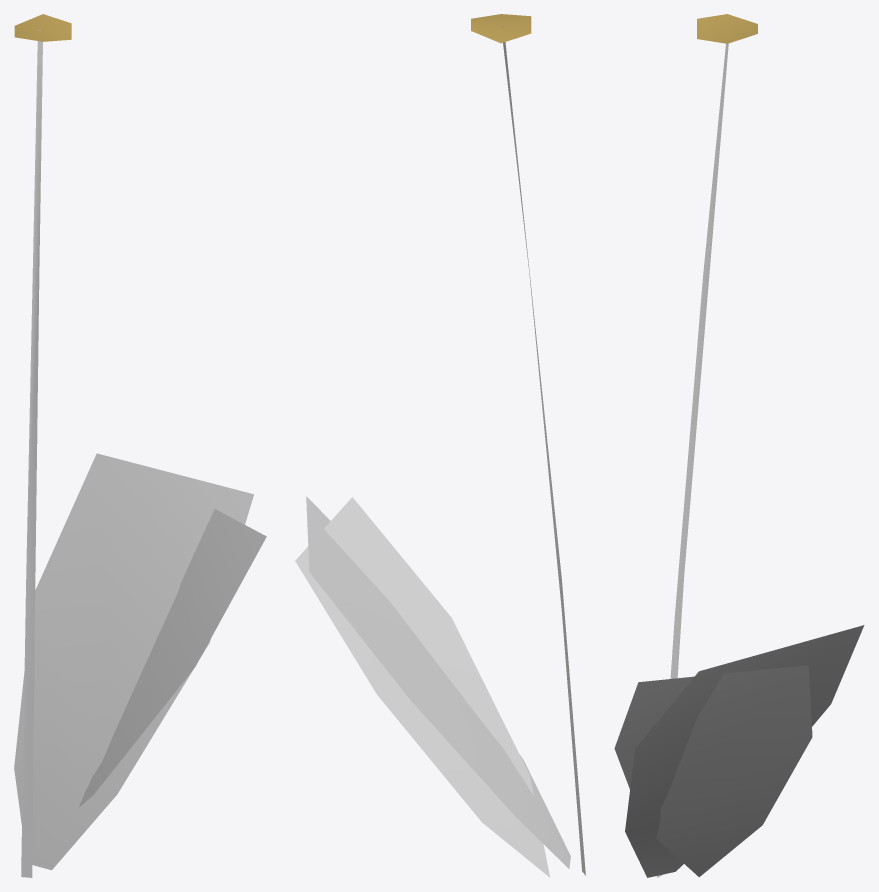
File: BroadPlantainPatch_LOD2.glb
3 views of the same model, side by side, from view 1: azimuth 30°, elevation 25°; view 2: azimuth 150°, elevation 25°; view 3: azimuth 270°, elevation 25° (orthographic). The views are drawn at different scales.
Visible parts, largest first — view 1: BroadPlantainPatch_LOD2; view 2: BroadPlantainPatch_LOD2; view 3: BroadPlantainPatch_LOD2.
Part boxes in pixels (x1,y1,x2,y2): BroadPlantainPatch_LOD2: [14, 14, 266, 877]; BroadPlantainPatch_LOD2: [295, 14, 585, 877]; BroadPlantainPatch_LOD2: [614, 14, 864, 877].
Bounding box in the file's own units: 0.2771 × 0.8675 × 0.2248.
